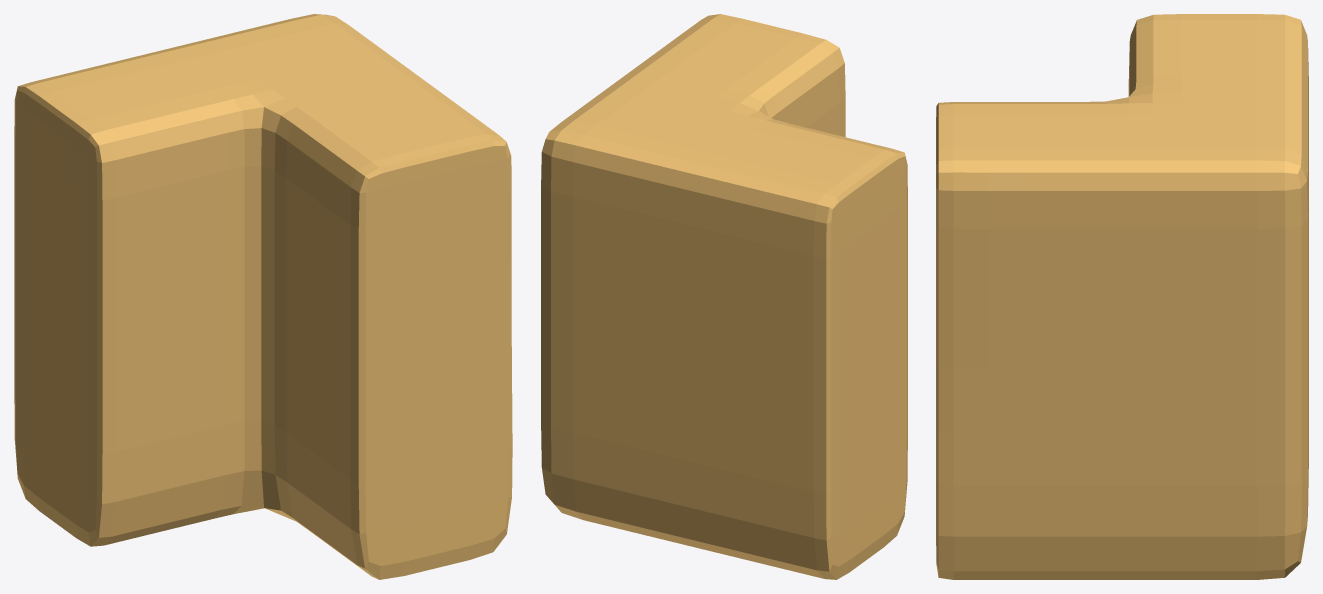
File: wallSummerCorner.glb
The picture shows the model from 3 angles, left to right: view 1: azimuth 30°, elevation 25°; view 2: azimuth 150°, elevation 25°; view 3: azimuth 270°, elevation 25°; orthographic projection. The views are drawn at different scales.
Parts seen in each view (by area): view 1: Cube.012; view 2: Cube.012; view 3: Cube.012.
Part boxes in pixels (bbox=[...]): Cube.012: bbox=[14, 14, 512, 579]; Cube.012: bbox=[541, 14, 907, 579]; Cube.012: bbox=[936, 14, 1308, 579].
Size of the model in its own units: 0.5825 by 0.7298 by 0.5835.
